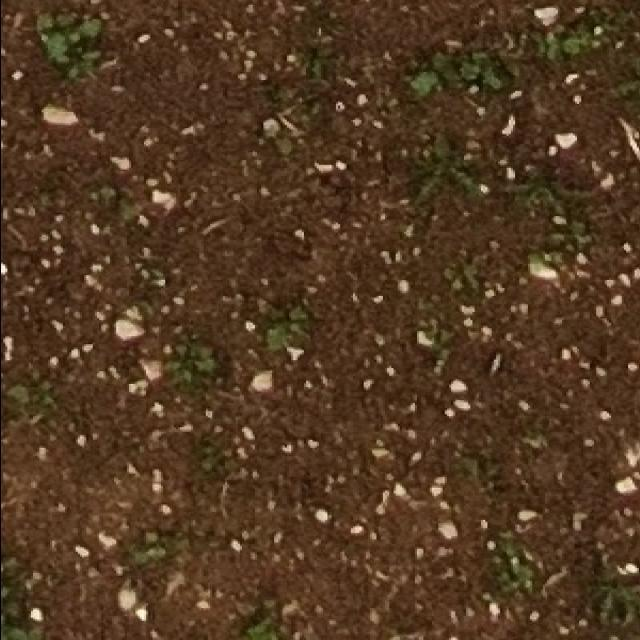cirse: (416, 132, 495, 208), (380, 131, 457, 208), (409, 147, 488, 217), (491, 173, 581, 232), (484, 170, 567, 227), (513, 160, 598, 215)
